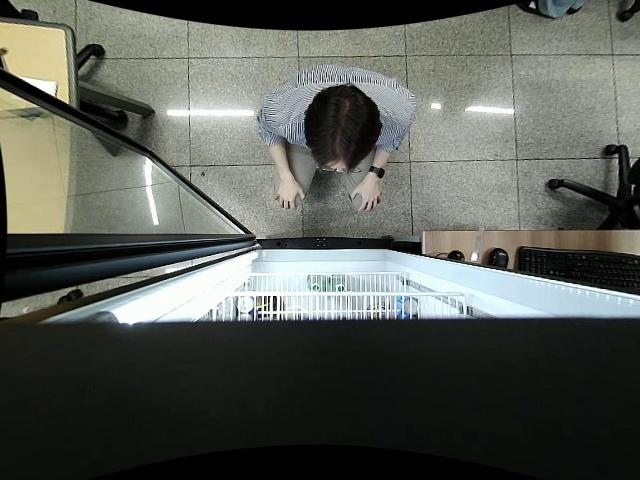00_hand: (350, 184, 382, 211), (274, 183, 304, 210)
